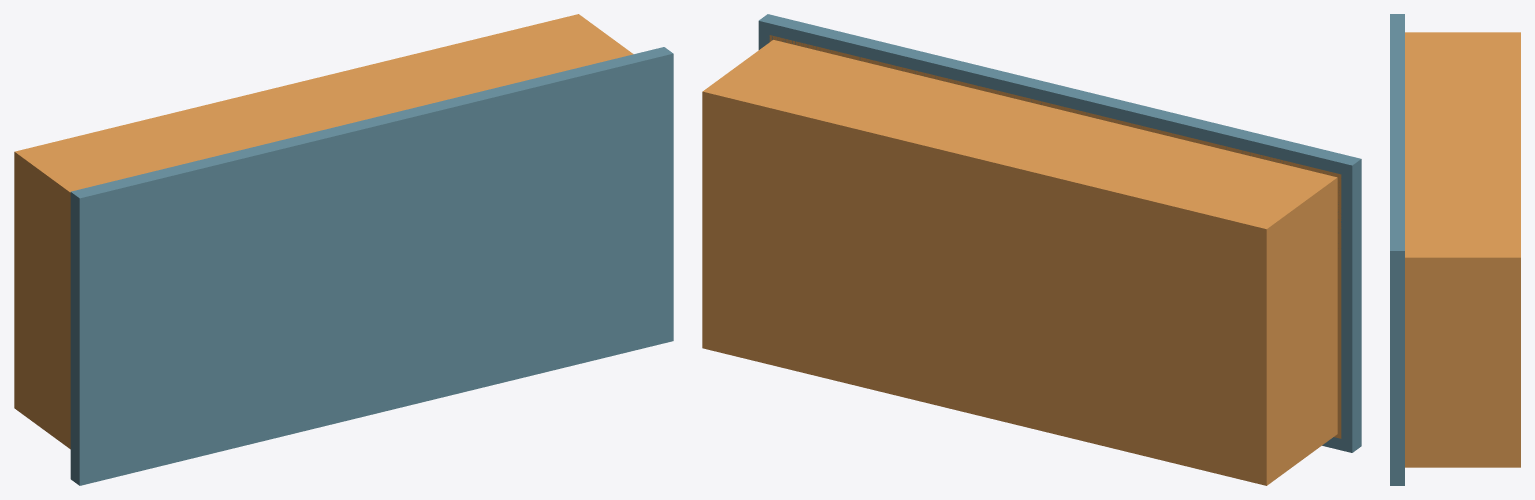
The model's file is modelo.obj.
3 views of the same model, side by side, from view 1: azimuth 30°, elevation 25°; view 2: azimuth 150°, elevation 25°; view 3: azimuth 270°, elevation 25° (orthographic). The views are drawn at different scales.
Visible parts, largest first — view 1: cubierta_2, cuerpo_0; view 2: cuerpo_0, cubierta_2, cuerpo_cornisa_1; view 3: cuerpo_0, cubierta_2.
Part boxes in pixels (<box>): cubierta_2: <box>70,47,673,485</box>; cuerpo_0: <box>14,14,633,449</box>; cuerpo_0: <box>702,40,1337,485</box>; cubierta_2: <box>758,14,1361,452</box>; cuerpo_cornisa_1: <box>769,35,1341,438</box>; cuerpo_0: <box>1405,32,1520,467</box>; cubierta_2: <box>1390,14,1404,485</box>.
Size of the model in its own units: 24.2 by 11.2 by 5.65.
